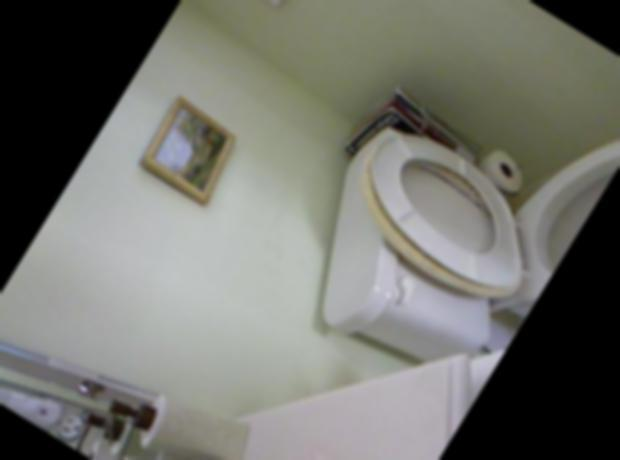Lavamanos: (213, 441, 398, 460)
Sanitario: (270, 13, 620, 411)
